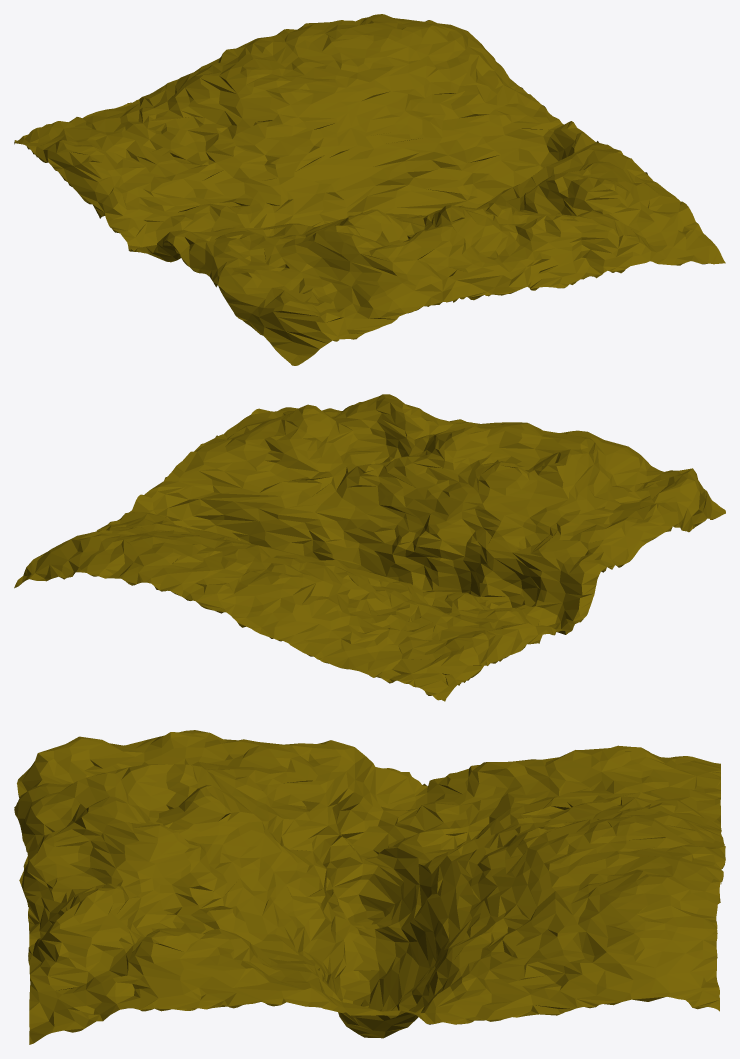
The model's file is map.fbx.
3 renders of one model, top to bottom at view 1: azimuth 30°, elevation 25°; view 2: azimuth 150°, elevation 25°; view 3: azimuth 270°, elevation 25°, orthographic. The views are drawn at different scales.
Parts seen in each view (by area): view 1: pPlane1; view 2: pPlane1; view 3: pPlane1.
Part boxes in pixels (x1,y1,x2,y2): pPlane1: [14, 14, 725, 365]; pPlane1: [14, 394, 725, 701]; pPlane1: [14, 730, 725, 1044].
Size of the model in its own units: 33.31 by 9.1 by 37.55.
